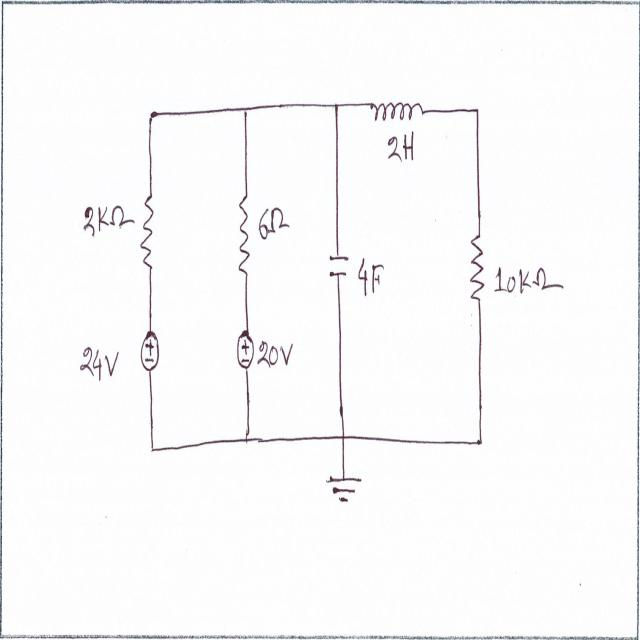capacitor: (327, 245, 352, 286)
ground: (327, 471, 363, 510)
inductor: (366, 90, 425, 126)
resistor: (466, 214, 488, 317), (139, 185, 155, 282), (236, 184, 252, 280)
voltage_source: (138, 324, 161, 376), (236, 326, 256, 375)
